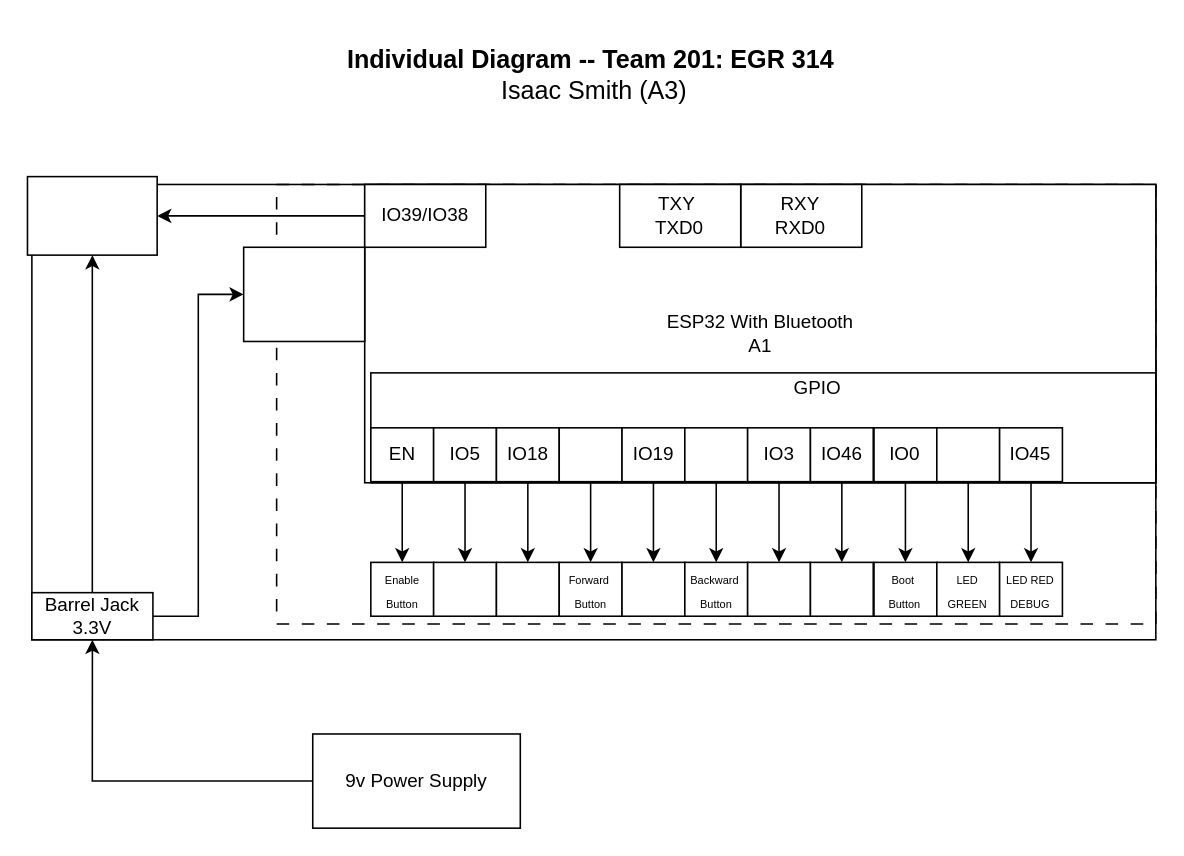
The diagram is 1184 pixels wide and 856 high, and some of its shapes have lost their labels. The shapes that lost their labels are listed below. From the top down, each one's centre as x and y in pixels, then its label:
At (91,215): "OLED Screen I2C IIC SSD1306".
At (303,293): "3.3 Voltage Regulator LM2575D2T-3.3R4GOSCT-ND".
At (590,454): "IO8".
At (715,454): "IO20".
At (967,454): "IO48".
At (464,588): "Debug Button".
At (527,588): "Left Button".
At (652,588): "Right Button".
At (778,588): "Spare 1 Button".
At (841,588): "Spare 2 Button".
